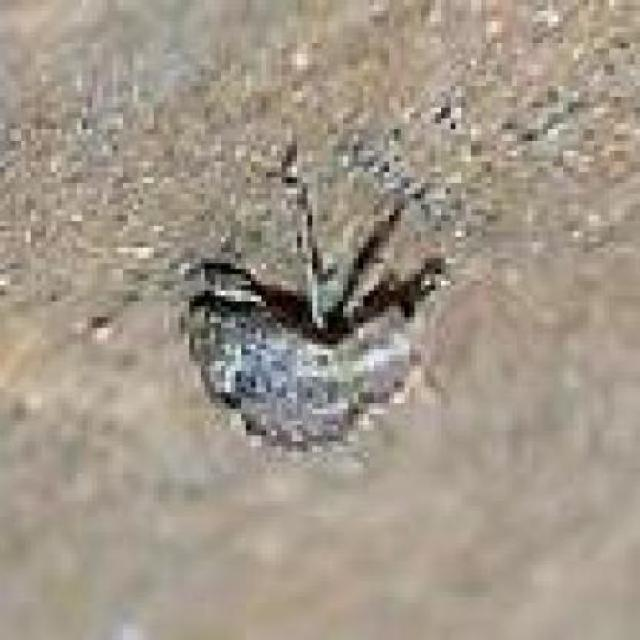rice-bug: (180, 172, 454, 454)
